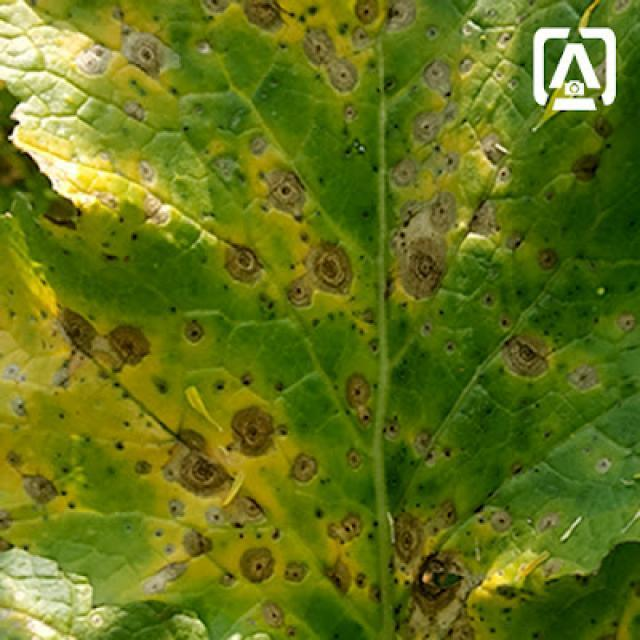Bacterial_Spot: (3, 2, 626, 620)
